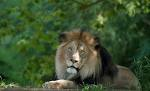lion: (56, 33, 143, 91)
